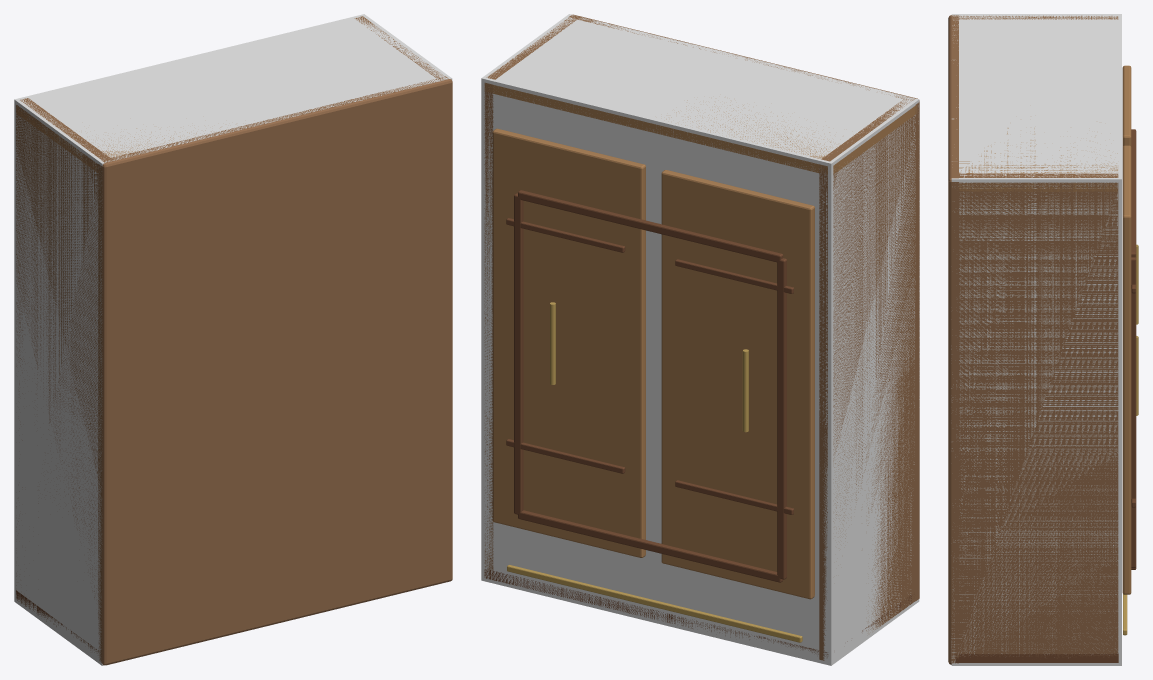
Rendered from luxury.glb.
The picture shows the model from 3 angles, left to right: view 1: azimuth 30°, elevation 25°; view 2: azimuth 150°, elevation 25°; view 3: azimuth 270°, elevation 25°; orthographic projection. The views are drawn at different scales.
Parts seen in each view (by area): view 1: Cabinet_Back.003, COL_STORAGE_CABINETS_LUXURY, Cabinet_Side.006, Cabinet_Top.003; view 2: COL_STORAGE_CABINETS_LUXURY, Cabinet_Door_-1.003, Cabinet_Door_1.003, Cabinet_Side.006, Cabinet_Top.003, Cabinet_Side.007, Cabinet_Back.003, Cabinet_TrimLeft.001, Cabinet_TrimRight.001, Cabinet_TrimTop.001, Cabinet_TrimBottom.001, Cabinet_BrassToeKick (+5 smaller); view 3: Cabinet_Side.007, COL_STORAGE_CABINETS_LUXURY, Cabinet_Back.003, Cabinet_Door_1.003, Cabinet_Top.003, Cabinet_TrimRight.001, Cabinet_Bottom.003, Cabinet_Door_-1.003, Cabinet_TrimTop.001, Cabinet_Side.006.
Part boxes in pixels (<box>): Cabinet_Back.003: <box>98,76,452,665</box>; COL_STORAGE_CABINETS_LUXURY: <box>14,14,452,665</box>; Cabinet_Side.006: <box>16,98,111,597</box>; Cabinet_Top.003: <box>16,105,220,172</box>; COL_STORAGE_CABINETS_LUXURY: <box>481,14,919,665</box>; Cabinet_Door_-1.003: <box>661,170,814,599</box>; Cabinet_Door_1.003: <box>492,128,645,557</box>; Cabinet_Side.006: <box>819,99,915,660</box>; Cabinet_Top.003: <box>484,83,917,174</box>; Cabinet_Side.007: <box>484,18,577,579</box>; Cabinet_Back.003: <box>568,14,919,600</box>; Cabinet_TrimLeft.001: <box>777,258,786,579</box>; Cabinet_TrimRight.001: <box>514,193,523,514</box>; Cabinet_TrimTop.001: <box>518,190,783,262</box>; Cabinet_TrimBottom.001: <box>518,510,783,582</box>; Cabinet_BrassToeKick: <box>507,564,802,642</box>; Cabinet_Side.007: <box>955,173,1118,658</box>; COL_STORAGE_CABINETS_LUXURY: <box>951,14,1121,665</box>; Cabinet_Back.003: <box>948,15,958,664</box>; Cabinet_Door_1.003: <box>1122,145,1131,594</box>; Cabinet_Top.003: <box>957,128,1118,191</box>; Cabinet_TrimRight.001: <box>1131,257,1136,567</box>; Cabinet_Bottom.003: <box>955,653,1118,662</box>; Cabinet_Door_-1.003: <box>1122,65,1131,146</box>; Cabinet_TrimTop.001: <box>1131,129,1136,257</box>; Cabinet_Side.006: <box>959,15,1118,19</box>.
Size of the model in its own units: 1.6 by 2.19 by 0.7766.
